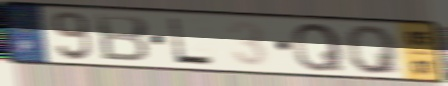3: (227, 20, 270, 69)
9: (50, 10, 95, 62)
B: (93, 12, 152, 64)
L: (165, 15, 217, 67)
Q: (342, 24, 404, 76), (290, 21, 347, 73)
